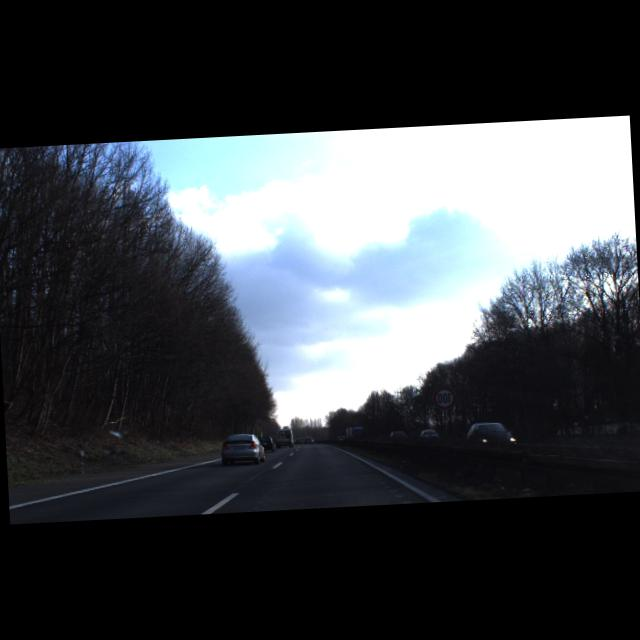prohibitory: (432, 386, 458, 412)
